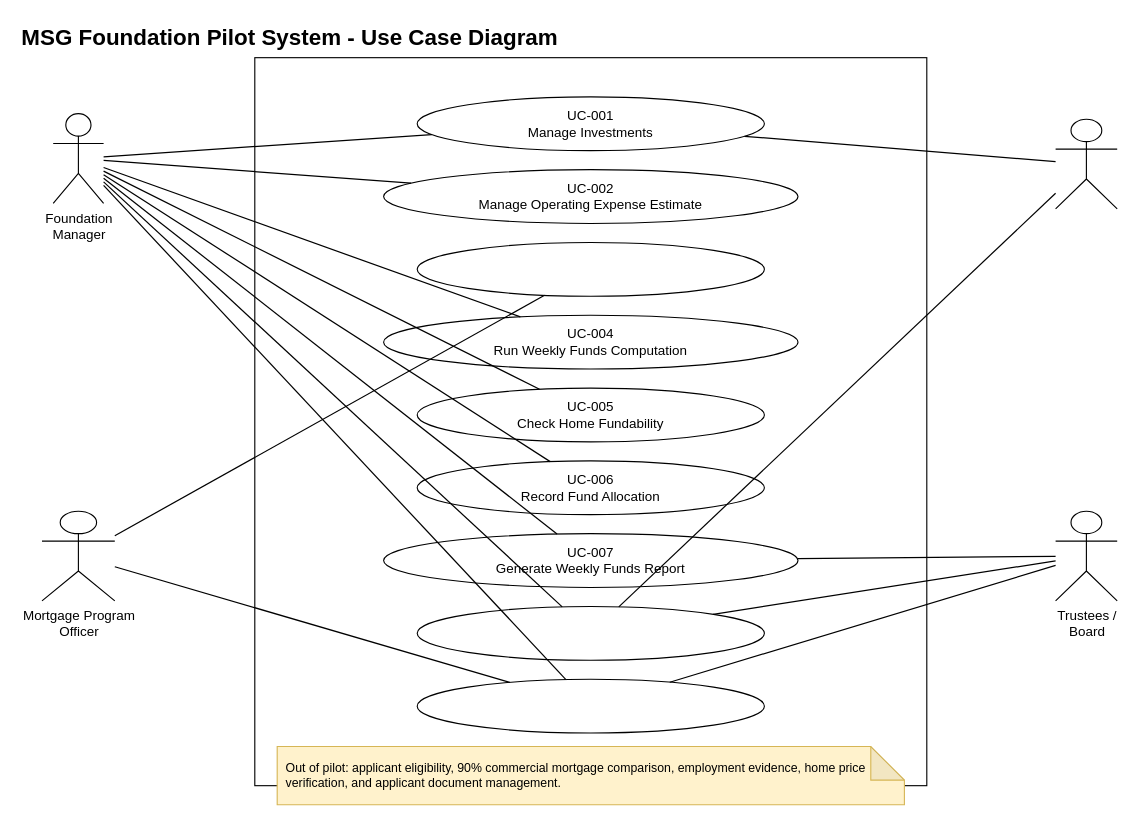
Some shapes in this 1138 by 824 pixel diagram are drawn without their labels. The shapes that lost their labels are listed below. From the top down, each one's box as (x1, y1, x2, y2) in pixels, then its label:
(1054, 118, 1117, 209): Investment Advisor
(416, 241, 764, 296): UC-003 Manage Mortgages
(254, 57, 927, 786): MSG Foundation Pilot System
(416, 605, 764, 660): UC-008 Generate Investment Listing
(416, 678, 764, 733): UC-009 Generate Mortgage Listing
